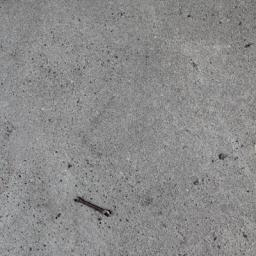FOD: (73, 195, 117, 221)
